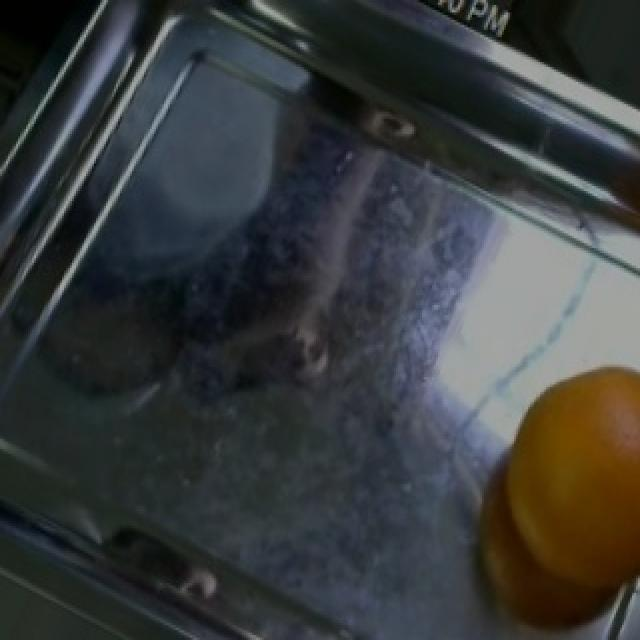Fruit: (478, 340, 640, 637)
